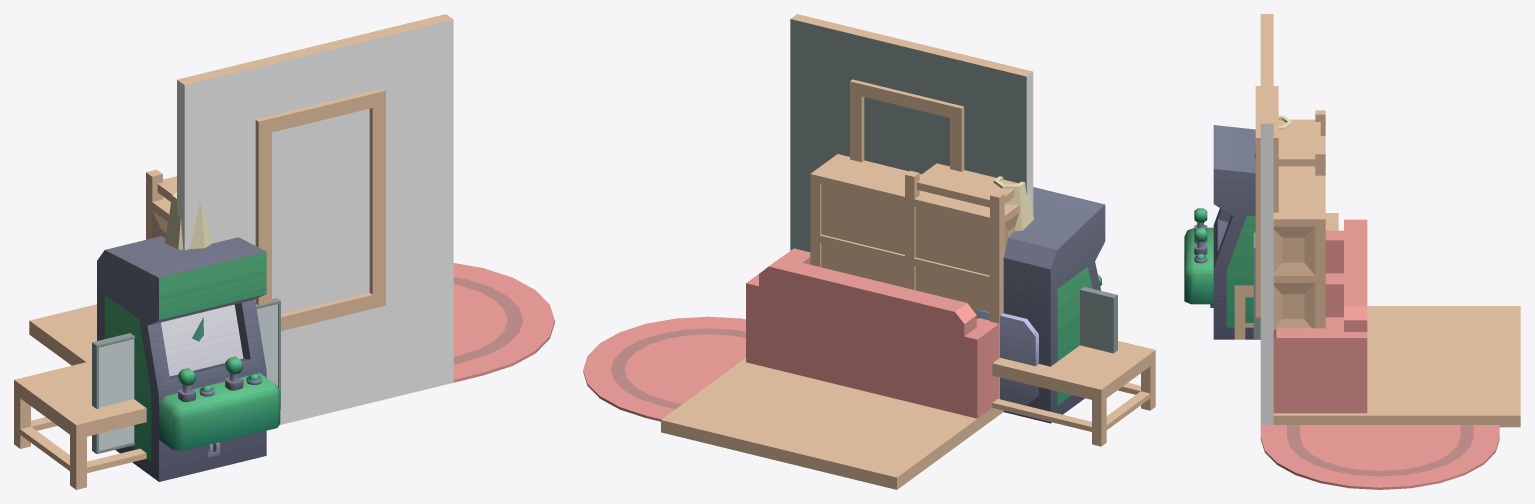
File: room.glb
The picture shows the model from 3 angles, left to right: view 1: azimuth 30°, elevation 25°; view 2: azimuth 150°, elevation 25°; view 3: azimuth 270°, elevation 25°; orthographic projection. The views are drawn at different scales.
Parts seen in each view (by area): view 1: wall(Clone), Mesh wallWindow, arcade-machine, rugRounded(Clone), tableCoffee(Clone), televisionModern(Clone), floorFull(Clone), lampRoundFloor(Clone), bookcaseClosedWide(Clone), bookcaseOpen(Clone); view 2: wall(Clone), floorFull(Clone), bookcaseClosedWide(Clone), arcade-machine, loungeChair(Clone), loungeSofa(Clone), rugRounded(Clone), tableCoffee(Clone), Mesh wallWindow, bookcaseOpen(Clone), televisionModern(Clone), lampRoundFloor(Clone); view 3: floorFull(Clone), rugRounded(Clone), arcade-machine, loungeSofa(Clone), bookcaseClosedWide(Clone), wall(Clone), loungeChair(Clone), bookcaseOpen(Clone), Mesh wallWindow, tableCoffee(Clone), televisionModern(Clone).
Part boxes in pixels (bbox=[...]): wall(Clone): bbox=[177, 14, 453, 424]; Mesh wallWindow: bbox=[184, 20, 453, 424]; arcade-machine: bbox=[97, 236, 280, 481]; rugRounded(Clone): bbox=[453, 263, 554, 382]; tableCoffee(Clone): bbox=[14, 361, 146, 489]; televisionModern(Clone): bbox=[92, 298, 280, 453]; floorFull(Clone): bbox=[29, 304, 96, 365]; lampRoundFloor(Clone): bbox=[165, 192, 212, 249]; bookcaseClosedWide(Clone): bbox=[146, 196, 170, 239]; bookcaseOpen(Clone): bbox=[146, 169, 176, 201]; wall(Clone): bbox=[790, 14, 1033, 251]; floorFull(Clone): bbox=[661, 358, 999, 489]; bookcaseClosedWide(Clone): bbox=[810, 154, 1019, 413]; arcade-machine: bbox=[974, 187, 1105, 423]; loungeChair(Clone): bbox=[861, 285, 999, 430]; loungeSofa(Clone): bbox=[746, 248, 999, 427]; rugRounded(Clone): bbox=[583, 316, 745, 421]; tableCoffee(Clone): bbox=[992, 341, 1155, 446]; Mesh wallWindow: bbox=[790, 19, 1026, 251]; bookcaseOpen(Clone): bbox=[905, 163, 1018, 290]; televisionModern(Clone): bbox=[1080, 286, 1117, 353]; lampRoundFloor(Clone): bbox=[993, 176, 1033, 230]; floorFull(Clone): bbox=[1273, 306, 1520, 427]; rugRounded(Clone): bbox=[1260, 425, 1499, 489]; arcade-machine: bbox=[1184, 125, 1260, 339]; loungeSofa(Clone): bbox=[1273, 252, 1367, 413]; bookcaseClosedWide(Clone): bbox=[1273, 136, 1325, 329]; wall(Clone): bbox=[1260, 14, 1273, 424]; loungeChair(Clone): bbox=[1325, 219, 1367, 317]; bookcaseOpen(Clone): bbox=[1278, 110, 1325, 175]; Mesh wallWindow: bbox=[1255, 86, 1278, 317]; tableCoffee(Clone): bbox=[1234, 213, 1338, 339]; televisionModern(Clone): bbox=[1253, 232, 1260, 338].
Size of the model in its own units: 2.03 by 1.29 by 1.29.
13 materials, 1 textured.
